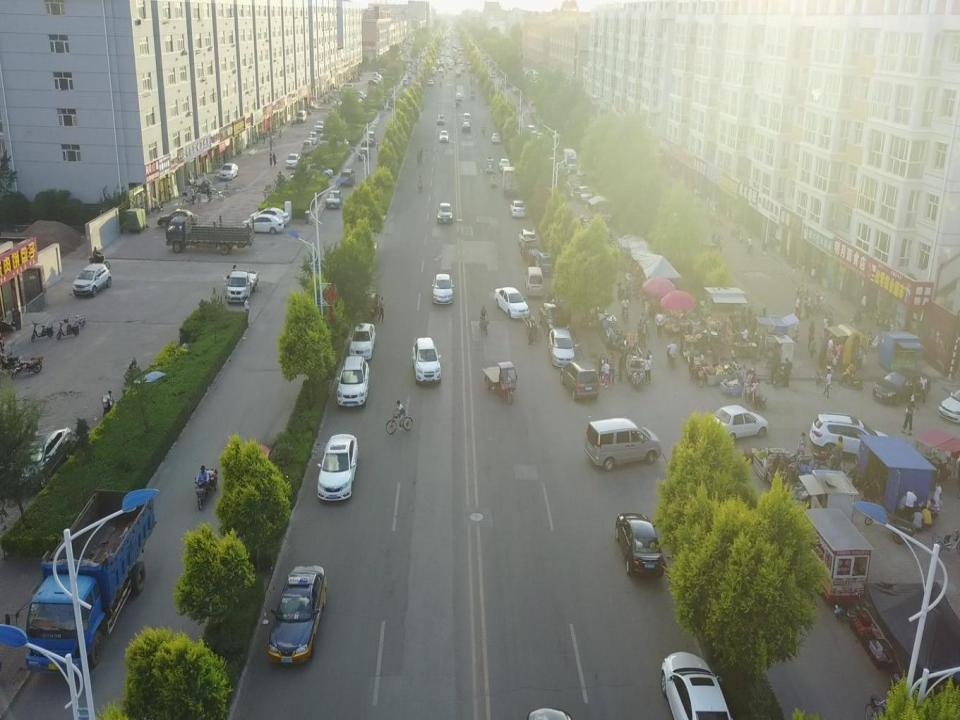car: (267, 565, 327, 665), (661, 651, 733, 720), (10, 426, 74, 494), (809, 412, 893, 461), (615, 512, 665, 579), (317, 433, 359, 502), (704, 405, 770, 442), (872, 367, 932, 406), (335, 356, 369, 408), (72, 262, 112, 298), (411, 337, 442, 382), (538, 300, 572, 336), (493, 286, 530, 319), (548, 328, 575, 368), (348, 323, 376, 360), (249, 207, 290, 229), (243, 214, 284, 235), (157, 209, 200, 229), (431, 273, 454, 305), (302, 163, 334, 180), (571, 184, 594, 204), (519, 227, 537, 250), (219, 162, 239, 181), (325, 188, 343, 209), (436, 201, 453, 223), (509, 200, 526, 219), (338, 167, 355, 185), (284, 153, 300, 170), (364, 130, 376, 147), (524, 124, 538, 138), (358, 146, 371, 161), (498, 158, 511, 172), (307, 131, 318, 145), (313, 120, 325, 132), (439, 130, 450, 143), (491, 131, 501, 144), (461, 122, 471, 134), (436, 114, 445, 125), (491, 71, 498, 79)
truck: (4, 486, 156, 674), (165, 214, 254, 256), (221, 268, 259, 305), (521, 237, 553, 275), (502, 166, 519, 194), (561, 147, 579, 172), (300, 139, 313, 156)
van: (584, 416, 662, 471), (560, 358, 599, 402), (524, 266, 544, 298), (318, 132, 350, 150), (577, 159, 604, 180), (338, 82, 354, 93), (296, 109, 306, 124), (462, 112, 472, 125), (454, 92, 462, 102)
